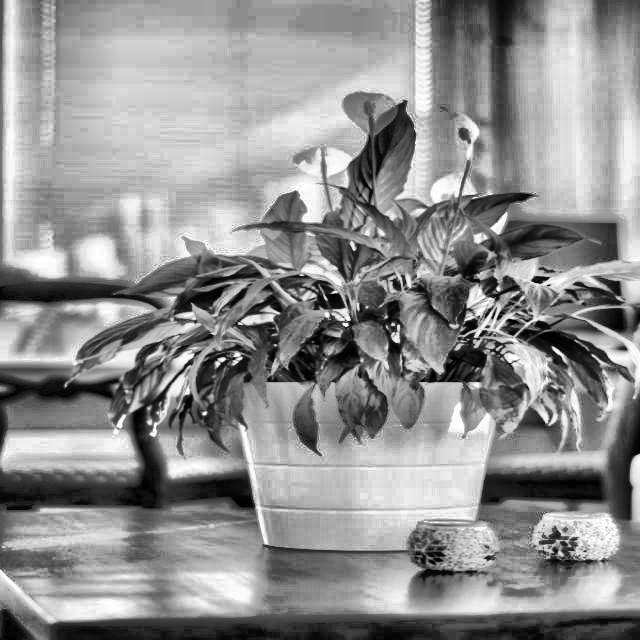plants: (101, 90, 629, 568), (464, 338, 538, 439), (388, 332, 441, 396)
